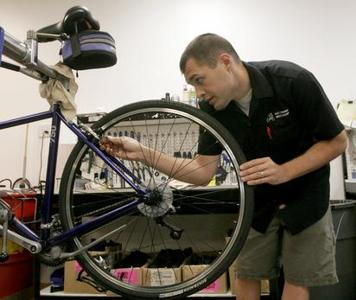person: (99, 32, 348, 300)
